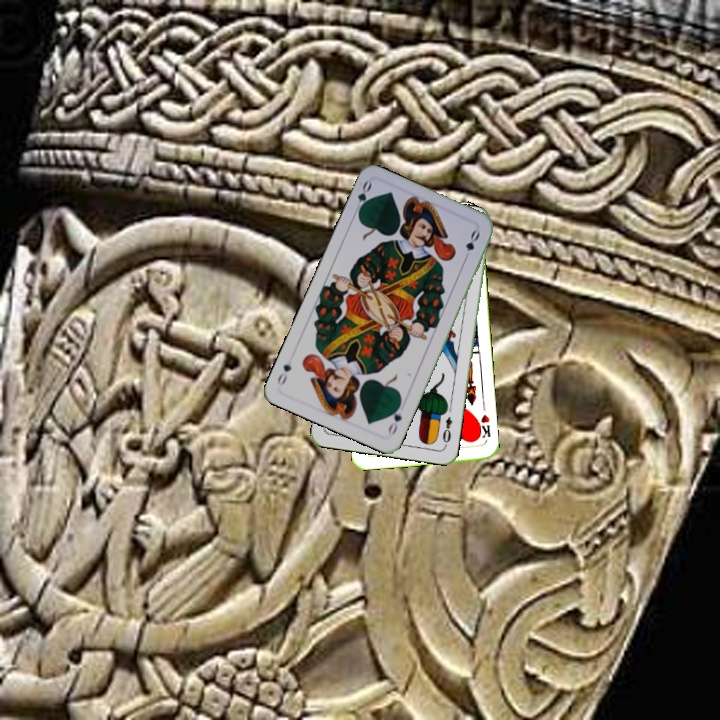EO: (438, 413, 455, 449)
GO: (350, 177, 374, 218), (384, 398, 405, 438)
HK: (473, 410, 493, 445)
